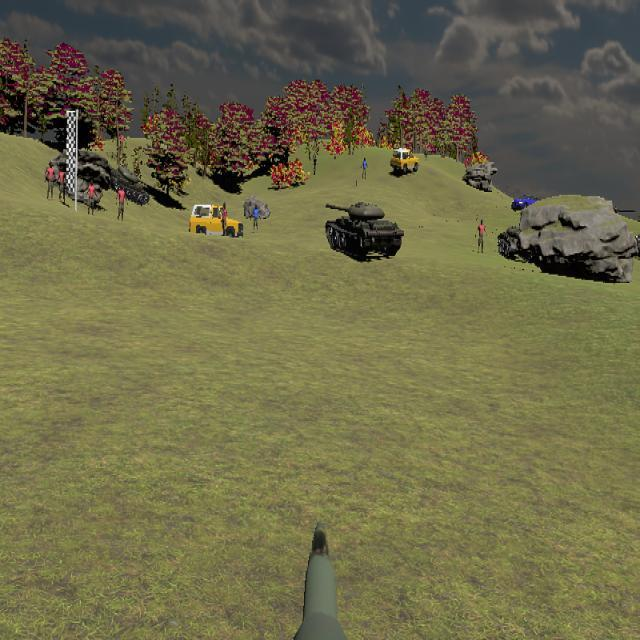Tank: (325, 200, 404, 260), (105, 165, 162, 205)
car: (189, 204, 243, 243), (390, 148, 419, 176)
